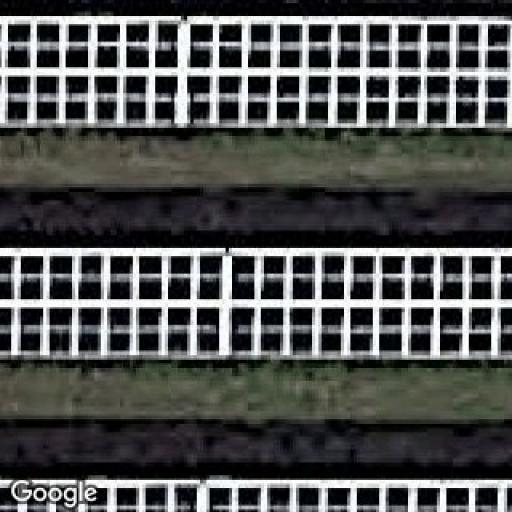solar-panel: (0, 248, 512, 362), (0, 18, 512, 131), (0, 480, 512, 512)
